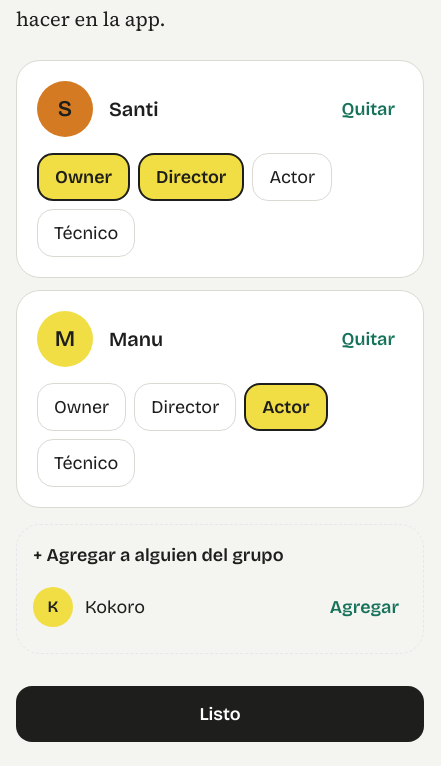
Test: HU-06 · equipo › adds someone from the group and removes someone from the team
The width and height of the screenshot is (441, 766).
(page scrolled)
Click the button with aria-label "Agregar a Kokoro" at (364,606), box [322,584,407,628]
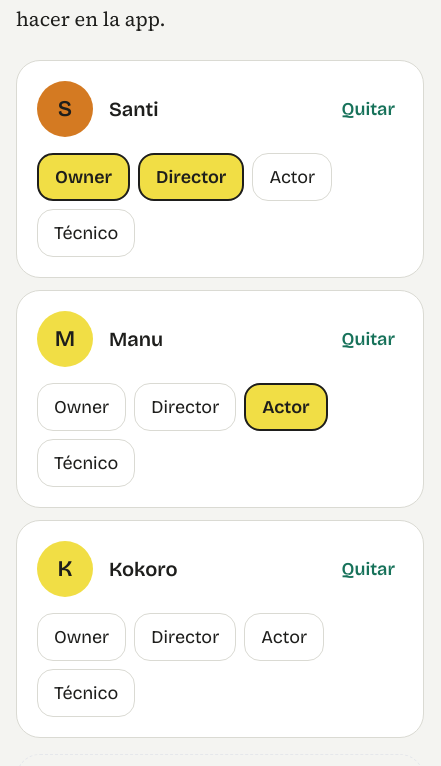
Click the button with aria-label "Quitar a Manu del equipo" at (368,338), box [334,316,403,360]
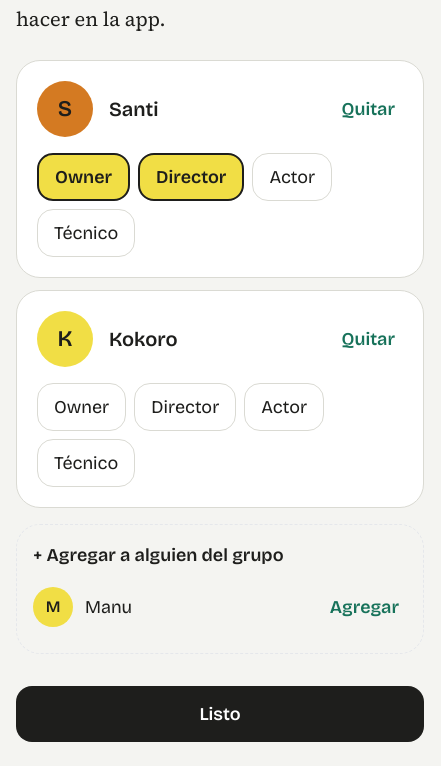
Result: the button with aria-label "Agregar a Manu" is shown at [322,584,407,628]
